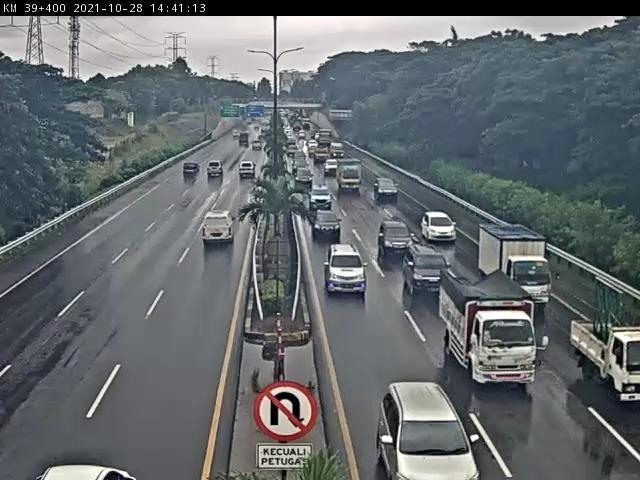car: (378, 382, 482, 480), (404, 247, 451, 299), (323, 239, 365, 288), (196, 219, 235, 260), (374, 218, 413, 253), (422, 213, 460, 246), (311, 206, 341, 237)
truck: (438, 272, 538, 390), (479, 225, 553, 311), (571, 318, 640, 400), (308, 185, 334, 210)
